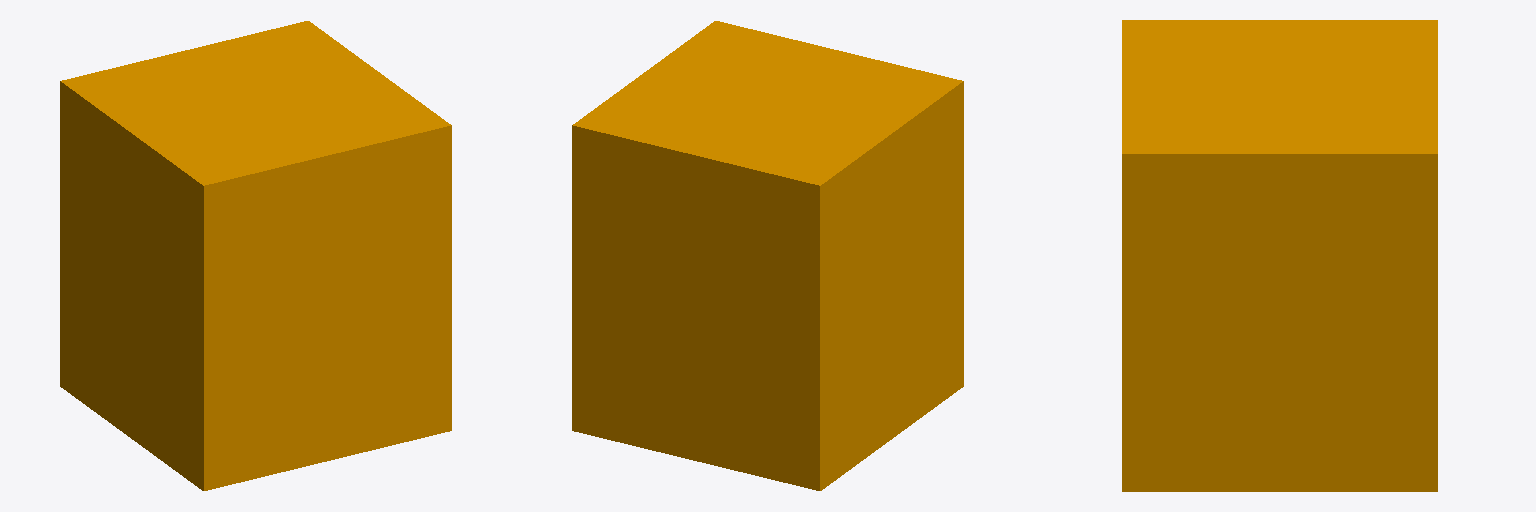
The robot description file, URDF, robot "object":
<robot name="object">
  <link name="object">
    <visual>
      <origin xyz="0 0 0" />
      <geometry>
        <box size="0.068 0.068 0.08" />
      </geometry>
    </visual>

    <collision>
      <origin xyz="0 0 0" />
      <geometry>
        <box size="0.068 0.068 0.08" />
      </geometry>
    </collision>

    <inertial>
      <mass value="0.05" />
      <inertia ixx="0.0001" ixy="0.0" ixz="0.0" iyy="0.0001" iyz="0.0" izz="0.0001" />
    </inertial>
  </link>
</robot>

--- Facts derived from the render (not from the file) ---
Views: 3 orthographic renders of the robot side by side, from view 1: azimuth 30°, elevation 25°; view 2: azimuth 150°, elevation 25°; view 3: azimuth 270°, elevation 25°.
Model object with 1 links and 0 joints (none), rooted at object, posed all joints at 0.
Visible links, largest first — view 1: object; view 2: object; view 3: object.
Boxes of the visible links, x1,y1,x2,y2 form: object: (60, 21, 451, 490); object: (572, 21, 963, 490); object: (1122, 20, 1437, 491).
Bounding box of the posed robot: 0.068 × 0.068 × 0.08 m (x, y, z).
Geometry: primitives only (box / cylinder / sphere), no mesh files.